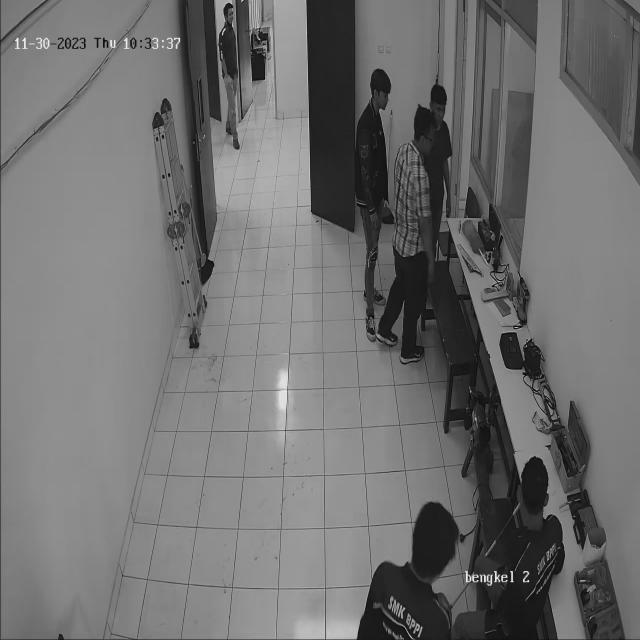person: (399, 82, 442, 365), (353, 66, 392, 352)
